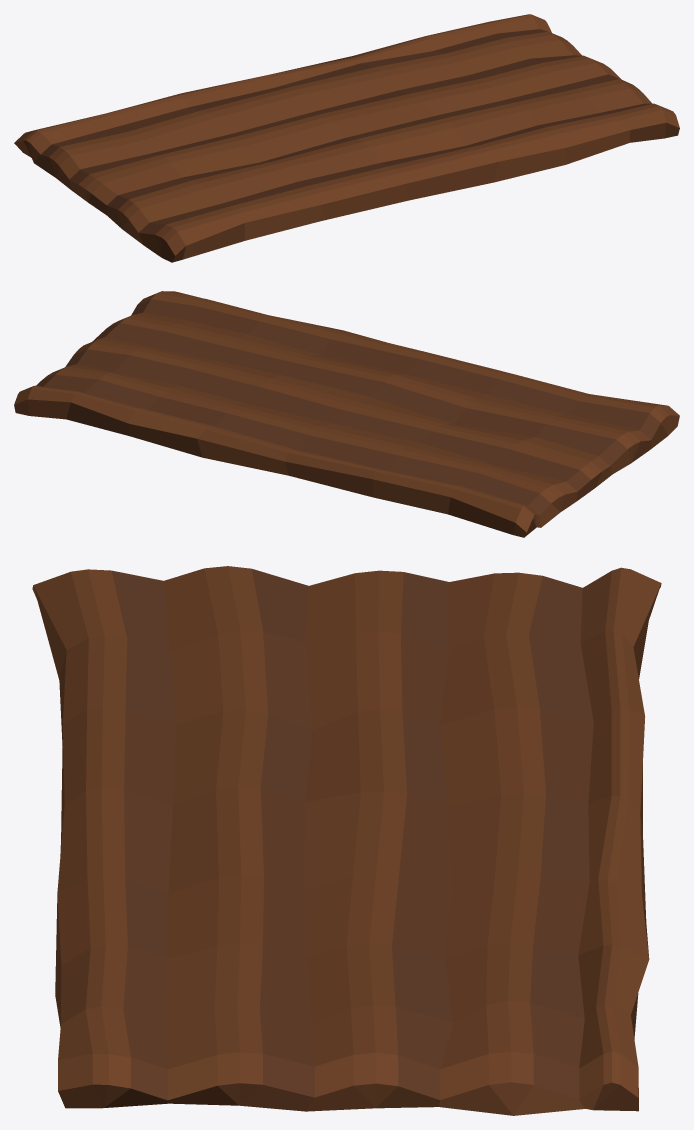
The model's file is ArableLandTile_3.fbx.
The picture shows the model from 3 angles, top to bottom: view 1: azimuth 30°, elevation 25°; view 2: azimuth 150°, elevation 25°; view 3: azimuth 270°, elevation 25°; orthographic projection. The views are drawn at different scales.
Parts seen in each view (by area): view 1: ArableLandTile_3; view 2: ArableLandTile_3; view 3: ArableLandTile_3.
Part boxes in pixels (<box>): ArableLandTile_3: <box>14,14,679,262</box>; ArableLandTile_3: <box>14,291,679,537</box>; ArableLandTile_3: <box>32,566,661,1115</box>.
Size of the model in its own units: 622 by 33.72 by 325.
